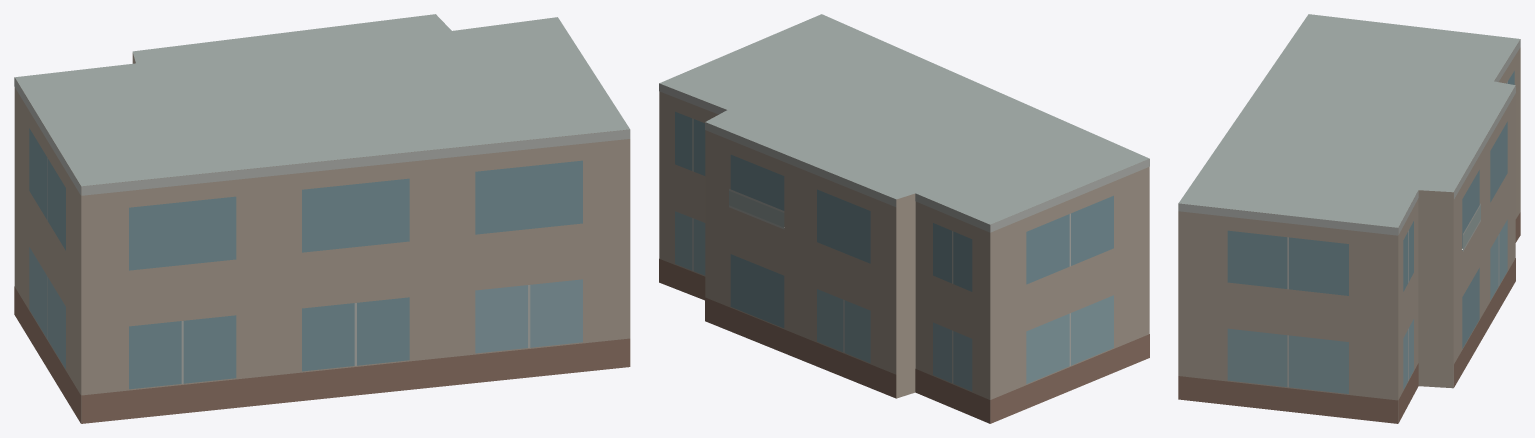
File: survey-upis-33042258.glb
The picture shows the model from 3 angles, left to right: view 1: azimuth 30°, elevation 25°; view 2: azimuth 150°, elevation 25°; view 3: azimuth 270°, elevation 25°; orthographic projection. The views are drawn at different scales.
Visible parts, largest first — view 1: survey-upis-33042258.tmp; view 2: survey-upis-33042258.tmp; view 3: survey-upis-33042258.tmp.
Part boxes in pixels (x1,y1,x2,y2): survey-upis-33042258.tmp: (14,14,630,423); survey-upis-33042258.tmp: (659,14,1149,423); survey-upis-33042258.tmp: (1178,14,1520,423).
Size of the model in its own units: 14.28 by 6.1 by 9.66.
